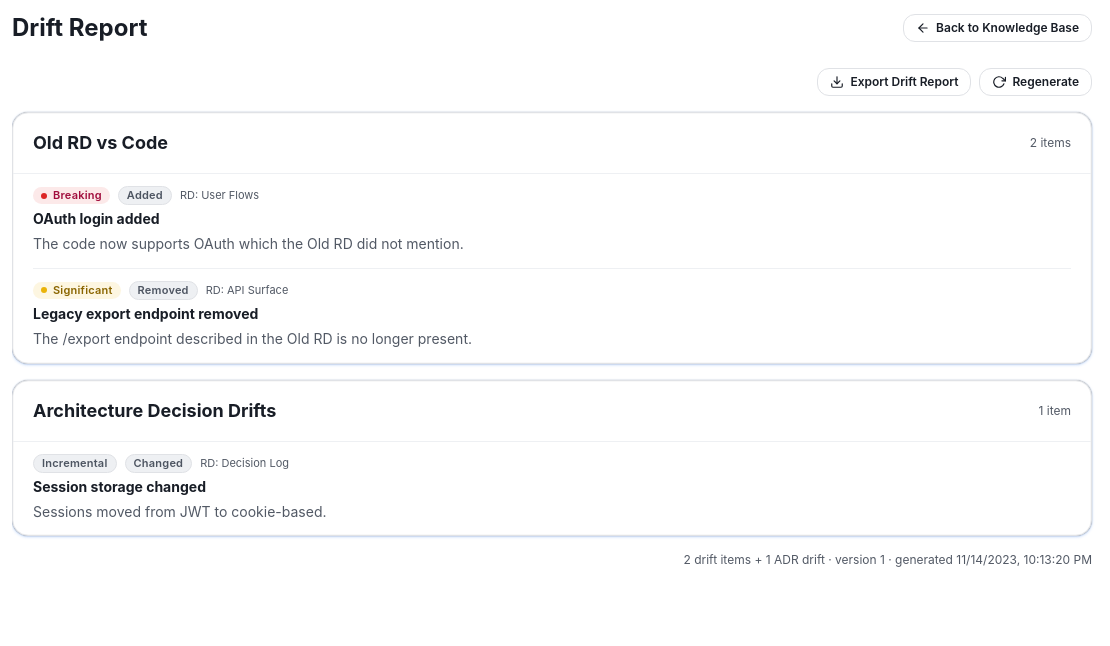
Test: DriftReportPage › shows error alert when regenerate action returns an error
What coordinates should you click on to do the following:
click the button "Regenerate"
I would click on:
 (1036, 82)
Its box is [979, 68, 1092, 96].
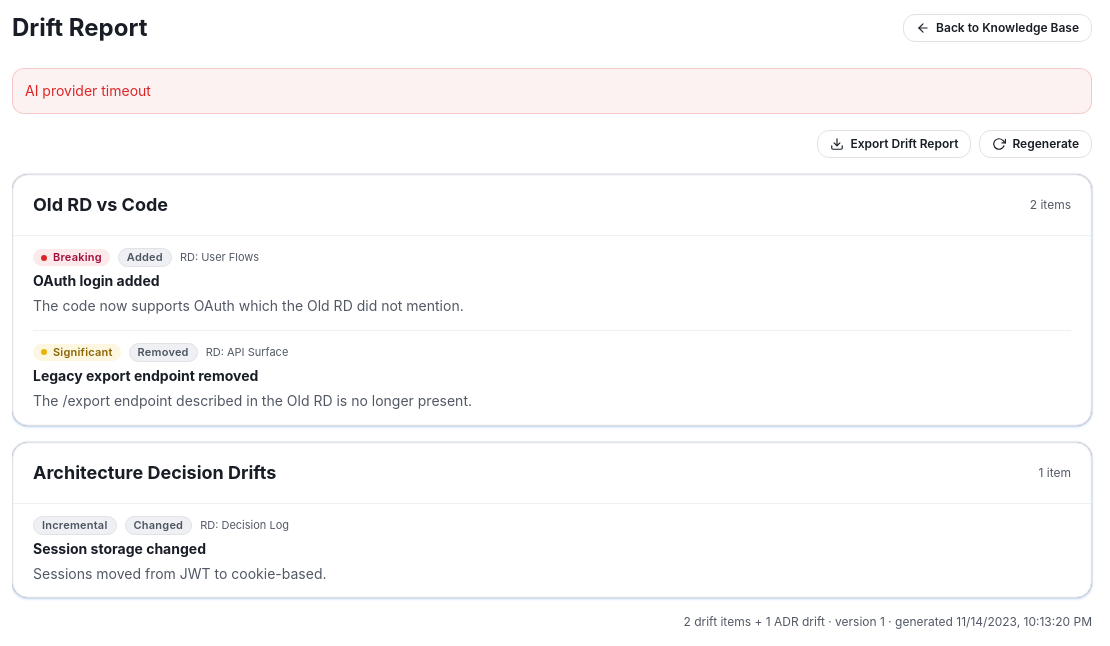
Expected: the text "AI provider timeout" is shown, [12, 68, 1092, 114]
